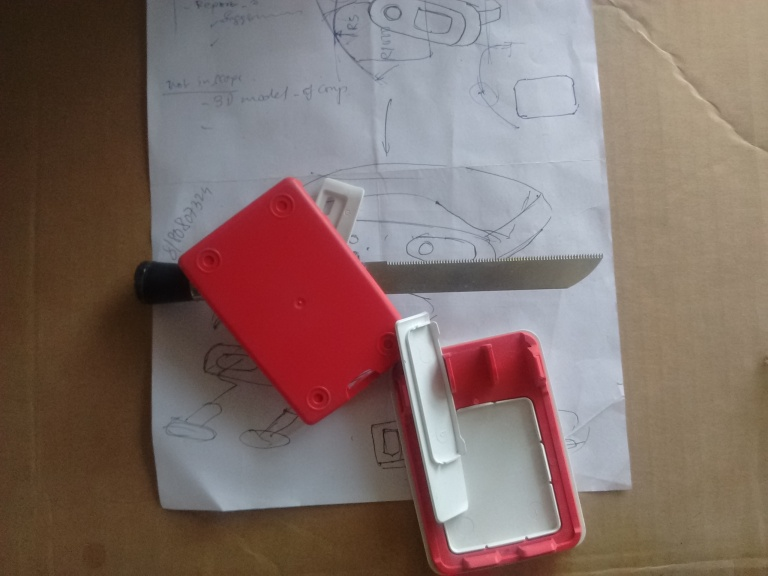knife: (360, 250, 604, 294)
